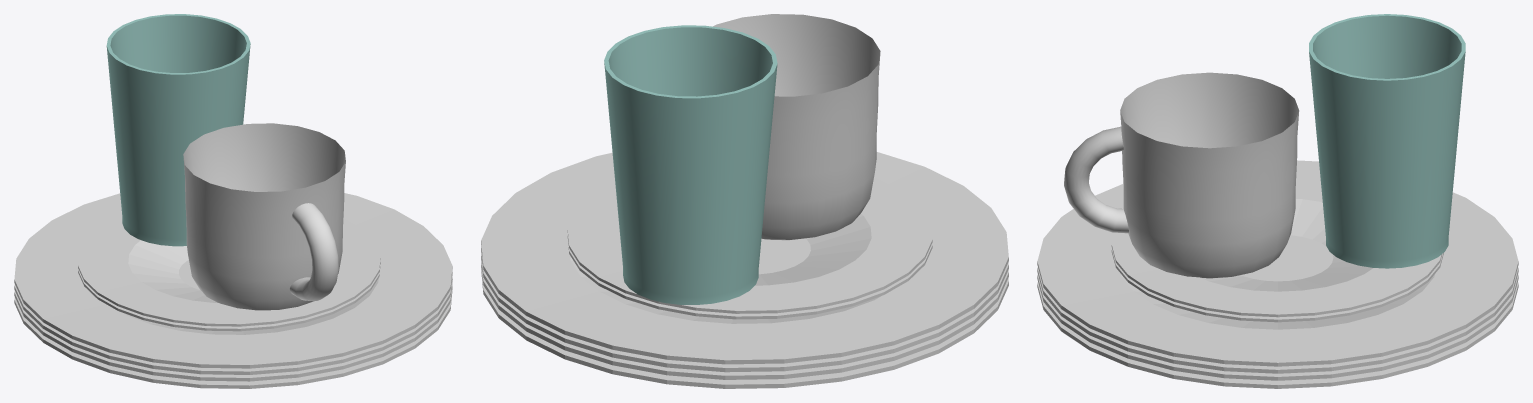
File: platos1.fbx
3 renders of one model, left to right at view 1: azimuth 30°, elevation 25°; view 2: azimuth 150°, elevation 25°; view 3: azimuth 270°, elevation 25°, orthographic. The views are drawn at different scales.
Parts seen in each view (by area): view 1: pCylinder4, pTorus3, pCylinder7, pCylinder6, pCylinder1, pCylinder2, pCylinder3, pCylinder5; view 2: pCylinder4, pCylinder7, pTorus3, pCylinder6, pCylinder1, pCylinder2, pCylinder3, pCylinder5; view 3: pTorus3, pCylinder7, pCylinder4, pCylinder6, pCylinder1, pCylinder3, pCylinder2, pCylinder5.
Part boxes in pixels (x1,y1,x2,y2): pCylinder4: (14, 193, 452, 368); pTorus3: (183, 123, 345, 310); pCylinder7: (106, 14, 250, 246); pCylinder6: (78, 215, 380, 326); pCylinder1: (14, 286, 452, 388); pCylinder2: (14, 278, 452, 381); pCylinder3: (14, 272, 452, 374); pCylinder5: (78, 260, 380, 331); pCylinder4: (481, 152, 1008, 364); pCylinder7: (604, 25, 777, 304); pTorus3: (713, 14, 880, 240); pCylinder6: (567, 177, 932, 313); pCylinder1: (481, 264, 1008, 388); pCylinder2: (481, 256, 1008, 379); pCylinder3: (481, 248, 1008, 372); pCylinder5: (567, 233, 932, 319); pTorus3: (1064, 72, 1299, 278); pCylinder7: (1309, 14, 1465, 268); pCylinder4: (1037, 160, 1518, 366); pCylinder6: (1111, 175, 1442, 317); pCylinder1: (1037, 282, 1518, 388); pCylinder3: (1037, 267, 1518, 373); pCylinder2: (1037, 274, 1518, 380); pCylinder5: (1111, 249, 1443, 322).
Size of the model in its own units: 2 by 1.18 by 2.
